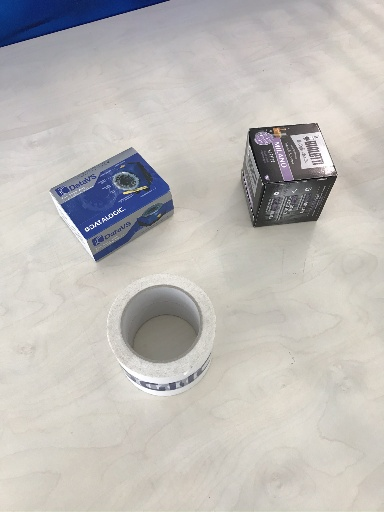Box: (48, 144, 180, 264)
Caffe: (240, 121, 340, 229)
Nastro: (107, 273, 218, 396)
